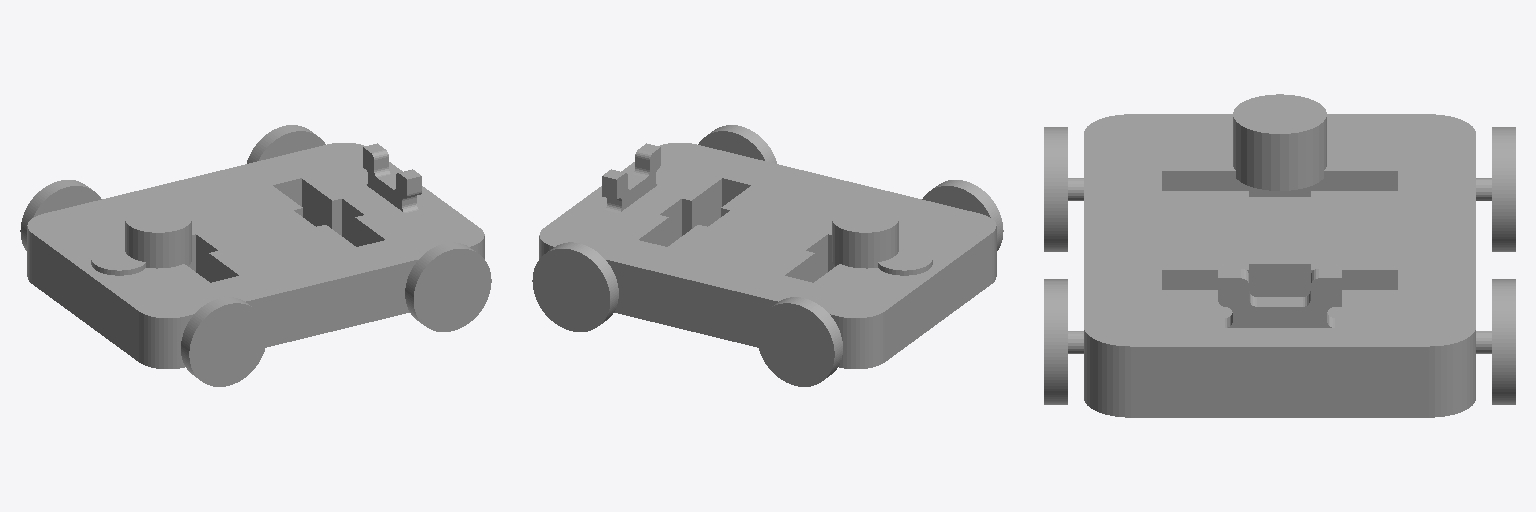
URDF robot description (mobilebot):
<?xml version="1.0" ?>
<!-- =================================================================================== -->
<!-- |    This document was autogenerated by xacro from mobilebot.xacro                | -->
<!-- |    EDITING THIS FILE BY HAND IS NOT RECOMMENDED                                 | -->
<!-- =================================================================================== -->
<robot name="mobilebot">
  <material name="silver">
    <color rgba="0.700 0.700 0.700 1.000"/>
  </material>
  <transmission name="Revolute 2_tran">
    <type>transmission_interface/SimpleTransmission</type>
    <joint name="Revolute 2">
      <hardwareInterface>hardware_interface/EffortJointInterface</hardwareInterface>
    </joint>
    <actuator name="Revolute 2_actr">
      <hardwareInterface>hardware_interface/EffortJointInterface</hardwareInterface>
      <mechanicalReduction>1</mechanicalReduction>
    </actuator>
  </transmission>
  <transmission name="Revolute 3_tran">
    <type>transmission_interface/SimpleTransmission</type>
    <joint name="Revolute 3">
      <hardwareInterface>hardware_interface/EffortJointInterface</hardwareInterface>
    </joint>
    <actuator name="Revolute 3_actr">
      <hardwareInterface>hardware_interface/EffortJointInterface</hardwareInterface>
      <mechanicalReduction>1</mechanicalReduction>
    </actuator>
  </transmission>
  <transmission name="Revolute 6_tran">
    <type>transmission_interface/SimpleTransmission</type>
    <joint name="Revolute 6">
      <hardwareInterface>hardware_interface/EffortJointInterface</hardwareInterface>
    </joint>
    <actuator name="Revolute 6_actr">
      <hardwareInterface>hardware_interface/EffortJointInterface</hardwareInterface>
      <mechanicalReduction>1</mechanicalReduction>
    </actuator>
  </transmission>
  <transmission name="Revolute 7_tran">
    <type>transmission_interface/SimpleTransmission</type>
    <joint name="Revolute 7">
      <hardwareInterface>hardware_interface/EffortJointInterface</hardwareInterface>
    </joint>
    <actuator name="Revolute 7_actr">
      <hardwareInterface>hardware_interface/EffortJointInterface</hardwareInterface>
      <mechanicalReduction>1</mechanicalReduction>
    </actuator>
  </transmission>
  <!-- SENSOR SYSTEM PLUGIN - Required for LiDAR to work -->
  <gazebo>
    <plugin filename="libgz-sim8-sensors-system.so" name="gz::sim::systems::Sensors">
      <render_engine>ogre2</render_engine>
    </plugin>
  </gazebo>
  <!-- DIFF DRIVE PLUGIN -->
  <gazebo>
    <plugin filename="libgz-sim8-diff-drive-system.so" name="gz::sim::systems::DiffDrive">
      <left_joint>Revolute 2</left_joint>
      <left_joint>Revolute 3</left_joint>
      <right_joint>Revolute 7</right_joint>
      <right_joint>Revolute 6</right_joint>
      <wheel_separation>0.27</wheel_separation>
      <wheel_radius>0.04</wheel_radius>
      <topic>cmd_vel</topic>
      <odom_topic>odom</odom_topic>
      <frame_id>odom</frame_id>
      <child_frame_id>base_link</child_frame_id>
    </plugin>
  </gazebo>
  <!-- BASE LINK PHYSICS -->
  <gazebo reference="base_link">
    <mu1>0.2</mu1>
    <mu2>0.2</mu2>
    <selfCollide>true</selfCollide>
    <gravity>true</gravity>
  </gazebo>
  <!-- WHEEL PHYSICS -->
  <gazebo reference="leftw_front_1">
    <mu1>0.8</mu1>
    <mu2>0.8</mu2>
    <selfCollide>true</selfCollide>
  </gazebo>
  <gazebo reference="leftw_back_1">
    <mu1>0.8</mu1>
    <mu2>0.8</mu2>
    <selfCollide>true</selfCollide>
  </gazebo>
  <gazebo reference="rightw_back_1">
    <mu1>0.8</mu1>
    <mu2>0.8</mu2>
    <selfCollide>true</selfCollide>
  </gazebo>
  <gazebo reference="rightw_front_1">
    <mu1>0.8</mu1>
    <mu2>0.8</mu2>
    <selfCollide>true</selfCollide>
  </gazebo>
  <!-- LIDAR SENSOR -->
  <gazebo reference="lidar_link">
    <sensor name="lidar" type="lidar">
      <topic>lidar</topic>
      <update_rate>10</update_rate>
      <lidar>
        <scan>
          <horizontal>
            <samples>360</samples>
            <resolution>1</resolution>
            <min_angle>-3.14159</min_angle>
            <max_angle>3.14159</max_angle>
          </horizontal>
        </scan>
        <range>
          <min>0.1</min>
          <max>10.0</max>
          <resolution>0.01</resolution>
        </range>
        <noise>
          <type>gaussian</type>
          <mean>0</mean>
          <stddev>0.01</stddev>
        </noise>
      </lidar>
      <always_on>true</always_on>
      <visualize>true</visualize>
    </sensor>
  </gazebo>
  <!-- BASE LINK -->
  <link name="base_link">
    <inertial>
      <origin rpy="0 0 0" xyz="0.0005792285328756672 7.970344944745154e-07 0.0403411412663239"/>
      <mass value="4.079939844889388"/>
      <inertia ixx="0.023714" ixy="-0.0" ixz="-0.000114" iyy="0.044684" iyz="-0.0" izz="0.066606"/>
    </inertial>
    <visual>
      <origin rpy="0 0 0" xyz="0 0 0"/>
      <geometry>
        <mesh filename="package://mobilebot_description/meshes/base_link.stl" scale="0.001 0.001 0.001"/>
      </geometry>
      <material name="silver"/>
    </visual>
    <collision>
      <origin rpy="0 0 0" xyz="0 0 0"/>
      <geometry>
        <mesh filename="package://mobilebot_description/meshes/base_link.stl" scale="0.001 0.001 0.001"/>
      </geometry>
    </collision>
  </link>
  <!-- LEFT FRONT WHEEL -->
  <link name="leftw_front_1">
    <inertial>
      <origin rpy="0 0 0" xyz="-6.938893903907228e-17 -0.007500000000000034 1.3877787807814457e-17"/>
      <mass value="0.07012034802812415"/>
      <inertia ixx="2.9e-05" ixy="0.0" ixz="-0.0" iyy="5.6e-05" iyz="-0.0" izz="2.9e-05"/>
    </inertial>
    <visual>
      <origin rpy="0 0 0" xyz="0.115 0.135 -0.04"/>
      <geometry>
        <mesh filename="package://mobilebot_description/meshes/leftw_front_1.stl" scale="0.001 0.001 0.001"/>
      </geometry>
      <material name="silver"/>
    </visual>
    <collision>
      <origin rpy="0 0 0" xyz="0.115 0.135 -0.04"/>
      <geometry>
        <mesh filename="package://mobilebot_description/meshes/leftw_front_1.stl" scale="0.001 0.001 0.001"/>
      </geometry>
    </collision>
  </link>
  <!-- LEFT BACK WHEEL -->
  <link name="leftw_back_1">
    <inertial>
      <origin rpy="0 0 0" xyz="-5.551115123125783e-17 -0.007500000000000007 2.7755575615628914e-17"/>
      <mass value="0.07012034802812417"/>
      <inertia ixx="2.9e-05" ixy="-0.0" ixz="0.0" iyy="5.6e-05" iyz="-0.0" izz="2.9e-05"/>
    </inertial>
    <visual>
      <origin rpy="0 0 0" xyz="-0.115 0.135 -0.04"/>
      <geometry>
        <mesh filename="package://mobilebot_description/meshes/leftw_back_1.stl" scale="0.001 0.001 0.001"/>
      </geometry>
      <material name="silver"/>
    </visual>
    <collision>
      <origin rpy="0 0 0" xyz="-0.115 0.135 -0.04"/>
      <geometry>
        <mesh filename="package://mobilebot_description/meshes/leftw_back_1.stl" scale="0.001 0.001 0.001"/>
      </geometry>
    </collision>
  </link>
  <!-- RIGHT BACK WHEEL -->
  <link name="rightw_back_1">
    <inertial>
      <origin rpy="0 0 0" xyz="-1.5265566588595902e-16 0.007500000000000007 3.469446951953614e-17"/>
      <mass value="0.07012034802812417"/>
      <inertia ixx="2.9e-05" ixy="0.0" ixz="-0.0" iyy="5.6e-05" iyz="-0.0" izz="2.9e-05"/>
    </inertial>
    <visual>
      <origin rpy="0 0 0" xyz="-0.115 -0.135 -0.04"/>
      <geometry>
        <mesh filename="package://mobilebot_description/meshes/rightw_back_1.stl" scale="0.001 0.001 0.001"/>
      </geometry>
      <material name="silver"/>
    </visual>
    <collision>
      <origin rpy="0 0 0" xyz="-0.115 -0.135 -0.04"/>
      <geometry>
        <mesh filename="package://mobilebot_description/meshes/rightw_back_1.stl" scale="0.001 0.001 0.001"/>
      </geometry>
    </collision>
  </link>
  <!-- RIGHT FRONT WHEEL -->
  <link name="rightw_front_1">
    <inertial>
      <origin rpy="0 0 0" xyz="0.0 0.007500000000000007 5.551115123125783e-17"/>
      <mass value="0.07012034802812417"/>
      <inertia ixx="2.9e-05" ixy="0.0" ixz="-0.0" iyy="5.6e-05" iyz="-0.0" izz="2.9e-05"/>
    </inertial>
    <visual>
      <origin rpy="0 0 0" xyz="0.115 -0.135 -0.04"/>
      <geometry>
        <mesh filename="package://mobilebot_description/meshes/rightw_front_1.stl" scale="0.001 0.001 0.001"/>
      </geometry>
      <material name="silver"/>
    </visual>
    <collision>
      <origin rpy="0 0 0" xyz="0.115 -0.135 -0.04"/>
      <geometry>
        <mesh filename="package://mobilebot_description/meshes/rightw_front_1.stl" scale="0.001 0.001 0.001"/>
      </geometry>
    </collision>
  </link>
  <!-- LIDAR LINK -->
  <link name="lidar_link">
    <inertial>
      <mass value="0.1"/>
      <inertia ixx="0.001" ixy="0" ixz="0" iyy="0.001" iyz="0" izz="0.001"/>
    </inertial>
    <visual>
      <geometry>
        <cylinder length="0.04" radius="0.03"/>
      </geometry>
      <material name="silver"/>
    </visual>
    <collision>
      <geometry>
        <cylinder length="0.04" radius="0.03"/>
      </geometry>
    </collision>
  </link>
  <!-- WHEEL JOINTS -->
  <joint name="Revolute 2" type="continuous">
    <origin rpy="0 0 0" xyz="-0.115 -0.135 0.04"/>
    <parent link="base_link"/>
    <child link="leftw_front_1"/>
    <axis xyz="0.0 1.0 0.0"/>
  </joint>
  <joint name="Revolute 3" type="continuous">
    <origin rpy="0 0 0" xyz="0.115 -0.135 0.04"/>
    <parent link="base_link"/>
    <child link="leftw_back_1"/>
    <axis xyz="0.0 1.0 0.0"/>
  </joint>
  <joint name="Revolute 6" type="continuous">
    <origin rpy="0 0 0" xyz="0.115 0.135 0.04"/>
    <parent link="base_link"/>
    <child link="rightw_back_1"/>
    <axis xyz="0.0 1.0 0.0"/>
  </joint>
  <joint name="Revolute 7" type="continuous">
    <origin rpy="0 0 0" xyz="-0.115 0.135 0.04"/>
    <parent link="base_link"/>
    <child link="rightw_front_1"/>
    <axis xyz="0.0 1.0 0.0"/>
  </joint>
  <!-- LIDAR JOINT - mounted at front -->
  <joint name="lidar_joint" type="fixed">
    <parent link="base_link"/>
    <child link="lidar_link"/>
    <origin rpy="0 0 0" xyz="-0.1 0.0 0.08"/>
  </joint>
</robot>

--- What the picture shows (computed from the rendered views, not written in the file) ---
Views: 3 orthographic renders of the robot side by side, from view 1: azimuth 30°, elevation 25°; view 2: azimuth 150°, elevation 25°; view 3: azimuth 270°, elevation 25°.
Robot: mobilebot — 6 links, 5 joints (4 continuous, 1 fixed); root link base_link; default pose: every joint at zero.
Links seen in each view (by area): view 1: base_link, leftw_front_1, leftw_back_1, lidar_link, rightw_front_1, rightw_back_1; view 2: base_link, rightw_front_1, rightw_back_1, lidar_link, leftw_front_1, leftw_back_1; view 3: base_link, lidar_link, leftw_back_1, rightw_back_1, leftw_front_1, rightw_front_1.
Boxes of the visible links, x1,y1,x2,y2 form: base_link: [27, 143, 484, 368]; leftw_front_1: [181, 297, 266, 386]; leftw_back_1: [405, 242, 491, 331]; lidar_link: [125, 204, 191, 268]; rightw_front_1: [20, 180, 101, 250]; rightw_back_1: [247, 125, 325, 163]; base_link: [539, 143, 996, 368]; rightw_front_1: [757, 297, 842, 386]; rightw_back_1: [532, 242, 618, 331]; lidar_link: [832, 204, 898, 268]; leftw_front_1: [922, 180, 1003, 250]; leftw_back_1: [698, 125, 776, 163]; base_link: [1068, 114, 1491, 417]; lidar_link: [1233, 94, 1326, 190]; leftw_back_1: [1044, 279, 1067, 404]; rightw_back_1: [1492, 279, 1515, 404]; leftw_front_1: [1044, 127, 1067, 251]; rightw_front_1: [1492, 127, 1515, 251].
Bounding box of the posed robot: 0.35 × 0.3 × 0.1 m (x, y, z).
5 mesh visuals loaded from 5 distinct referenced files (5 binary STL).
